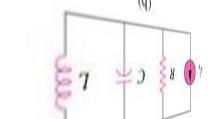resistor: (154, 49, 168, 92)
